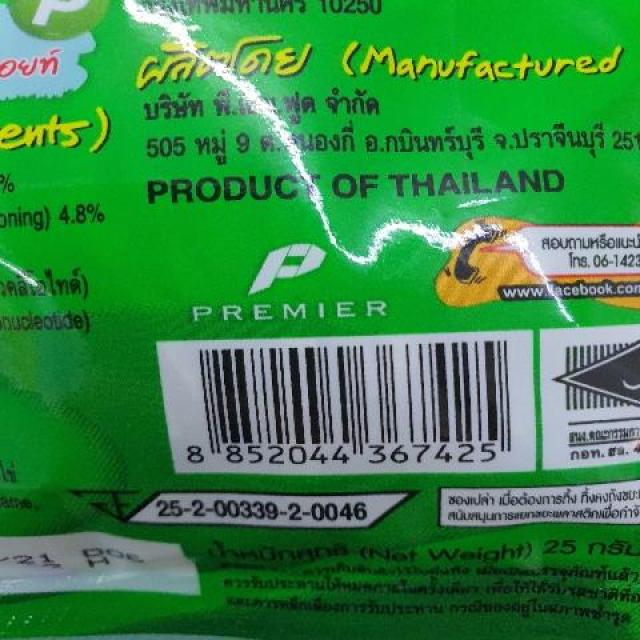Barcode: (155, 330, 533, 470)
